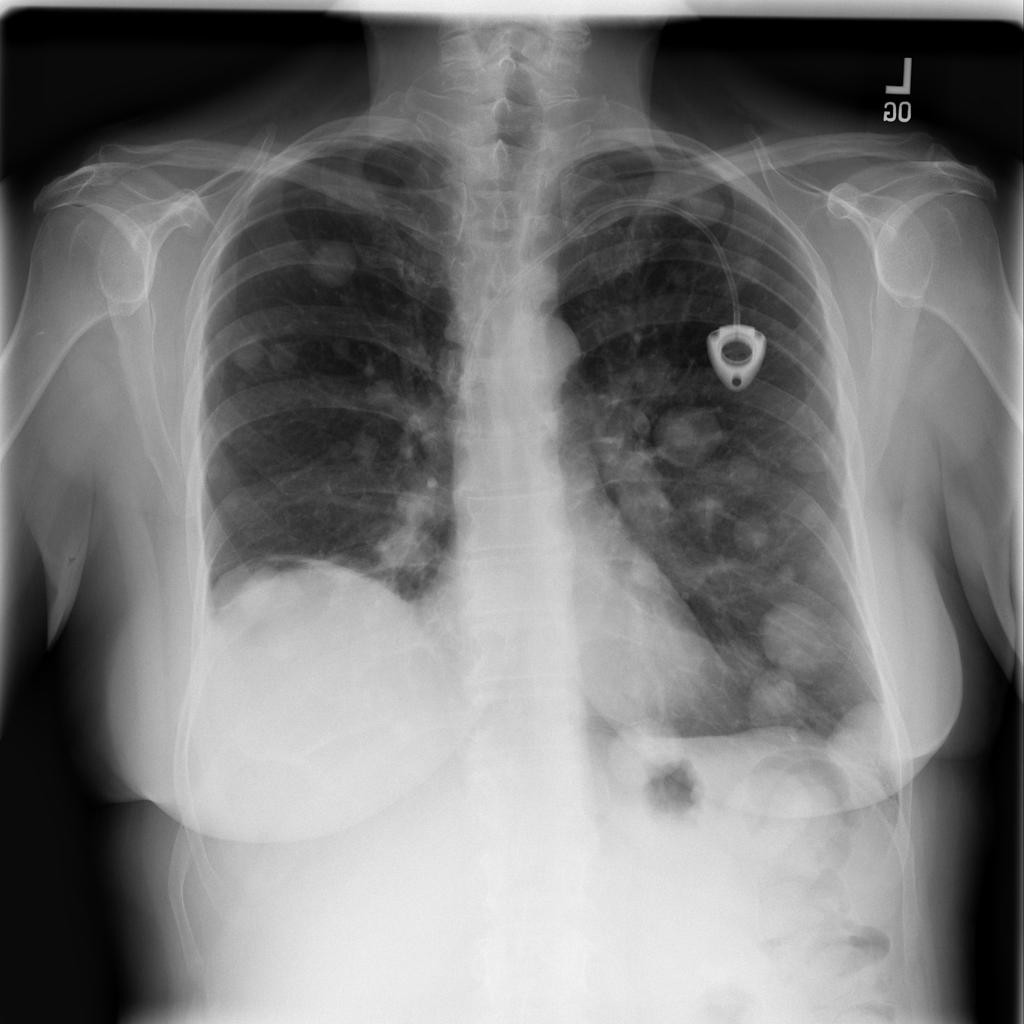nodule: (816, 692, 894, 783), (757, 600, 842, 676), (222, 556, 306, 629), (650, 397, 730, 472), (607, 716, 685, 789), (367, 511, 442, 583), (300, 227, 370, 301), (721, 491, 787, 564), (737, 671, 815, 732), (779, 424, 846, 493), (235, 320, 302, 388), (697, 628, 766, 693), (718, 444, 773, 497), (612, 662, 663, 712), (331, 424, 384, 471), (767, 544, 818, 592)
